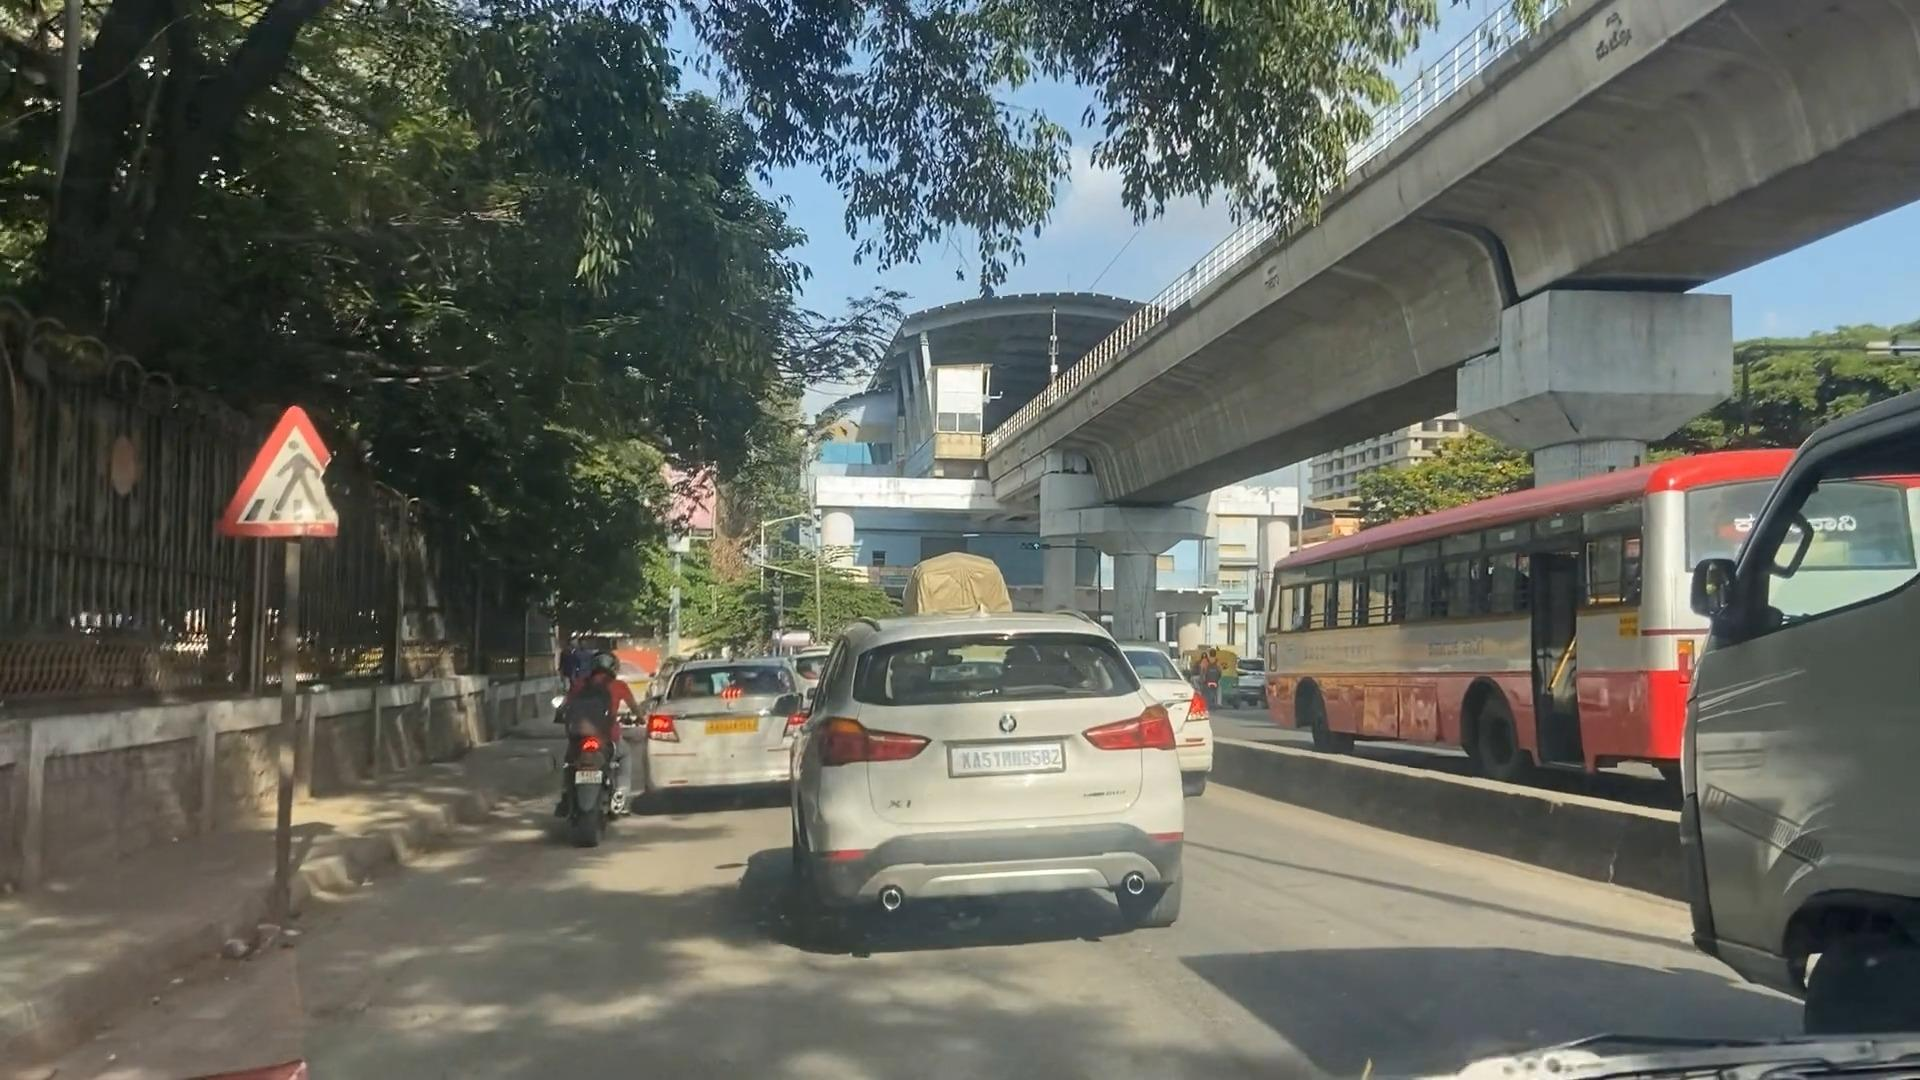HMV: (1237, 382, 1880, 793)
